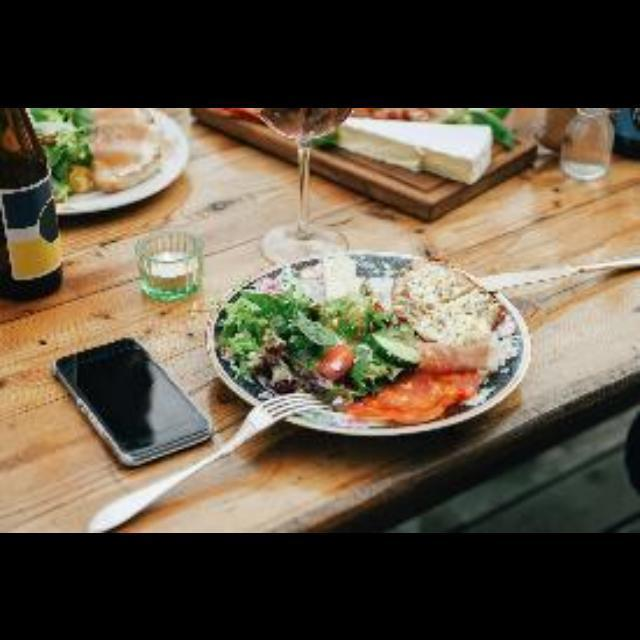phone: (20, 320, 238, 480)
